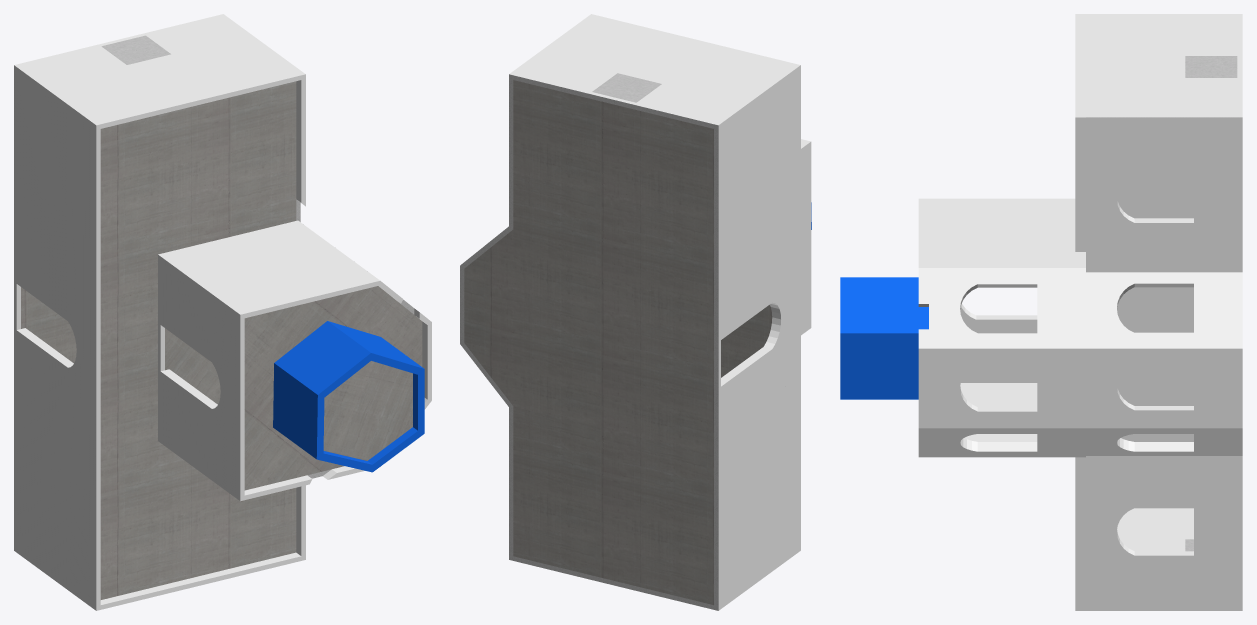
File: VOGD_M_BUILDING_AMHOTTEN_018_lod0.obj
3 renders of one model, left to right at view 1: azimuth 30°, elevation 25°; view 2: azimuth 150°, elevation 25°; view 3: azimuth 270°, elevation 25°, orthographic.
Bounding box in the file's own units: 5.8 × 10.41 × 7.7.
